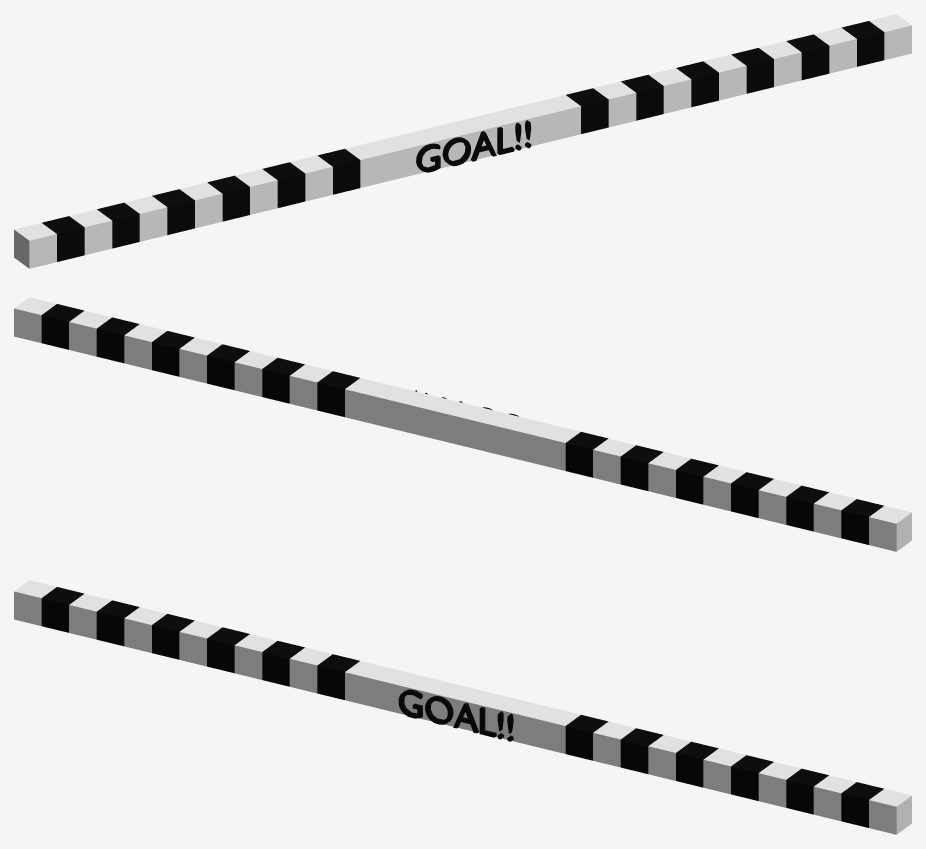
File: goal.fbx
The picture shows the model from 3 angles, top to bottom: view 1: azimuth 30°, elevation 25°; view 2: azimuth 150°, elevation 25°; view 3: azimuth 330°, elevation 25°; orthographic projection.
Visible parts, largest first — view 1: Mesh; view 2: Mesh; view 3: Mesh.
Part boxes in pixels (x1,y1,x2,y2): Mesh: (14,14,911,268); Mesh: (14,297,911,551); Mesh: (14,580,911,834).
Size of the model in its own units: 5 by 0.1517 by 0.1727.
